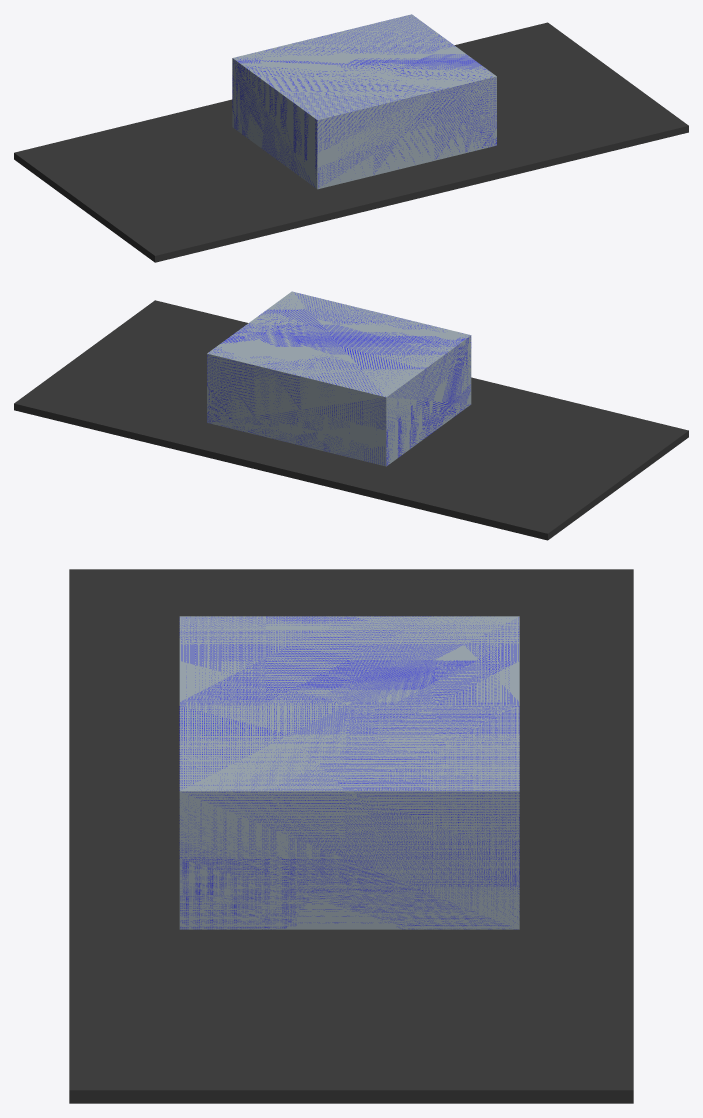
Rendered from tote_pickupplate.fbx.
3 renders of one model, top to bottom at view 1: azimuth 30°, elevation 25°; view 2: azimuth 150°, elevation 25°; view 3: azimuth 270°, elevation 25°, orthographic. The views are drawn at different scales.
Parts seen in each view (by area): view 1: Group1, Model; view 2: Group1, Model; view 3: Group1, Model.
Part boxes in pixels (x1,y1,x2,y2): Group1: (14,22,688,262); Model: (232,14,496,189); Group1: (14,300,688,540); Model: (207,291,471,466); Group1: (69,569,633,1103); Model: (179,616,519,929).
Bounding box in the file's own units: 42.39 × 5.76 × 19.41.
